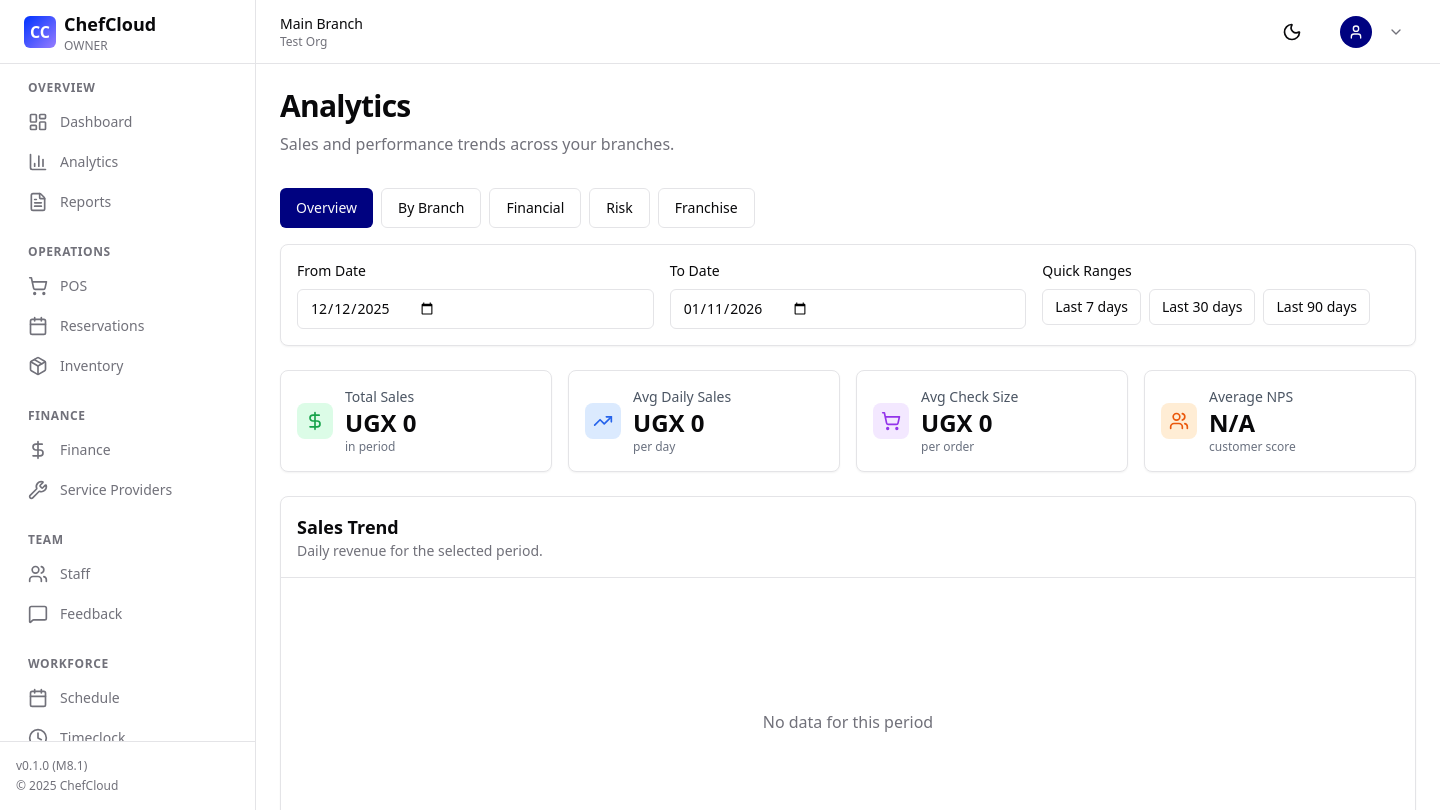
AnalyticsPage - Franchise View Plan Gating › shows loading state while checking plan capabilities for franchise view
This screenshot has width=1440, height=810.
Click the tab "Franchise" at (706, 208), box [658,188,755,228]
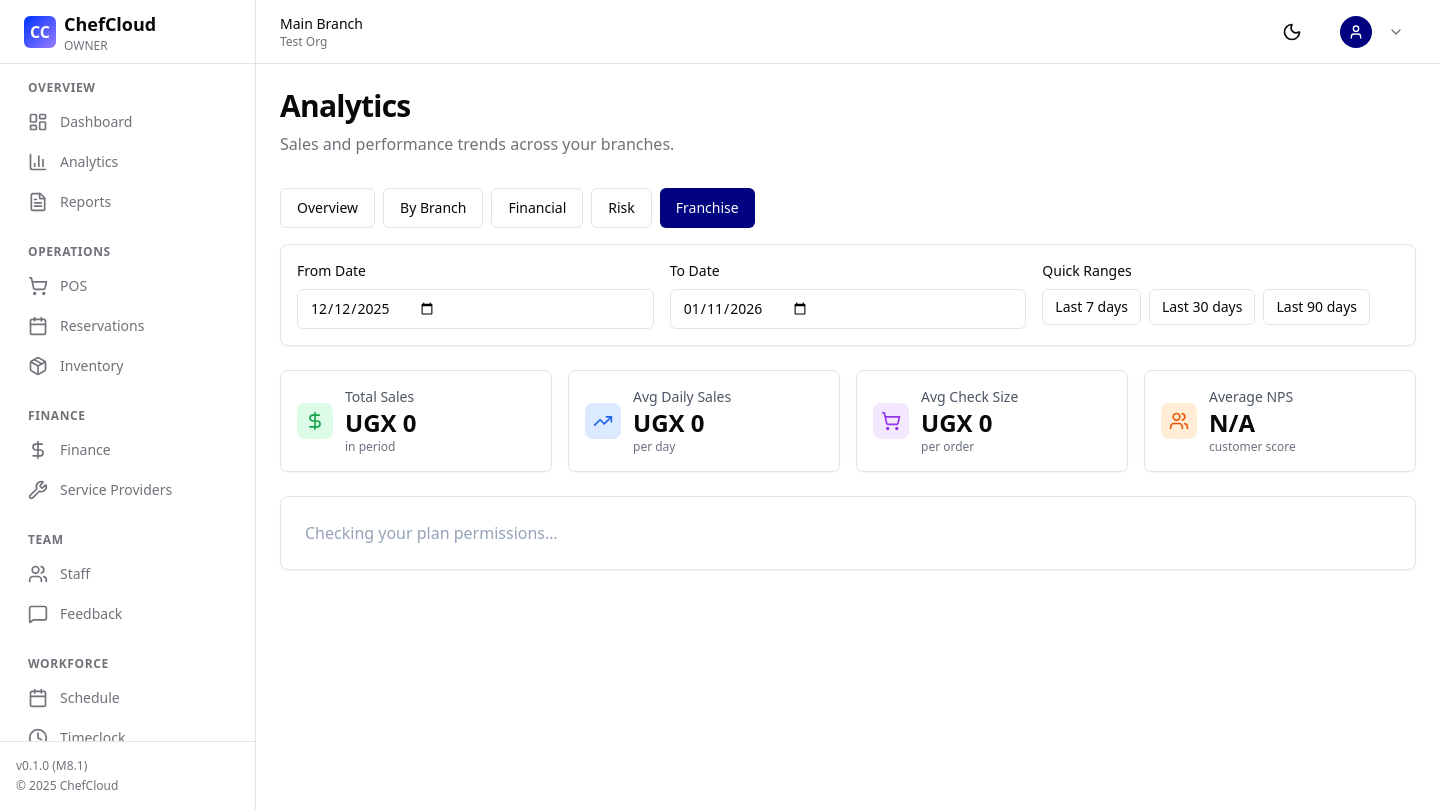
expect the text "Checking your plan permissions…" is shown: met, box [305,522,558,544]
